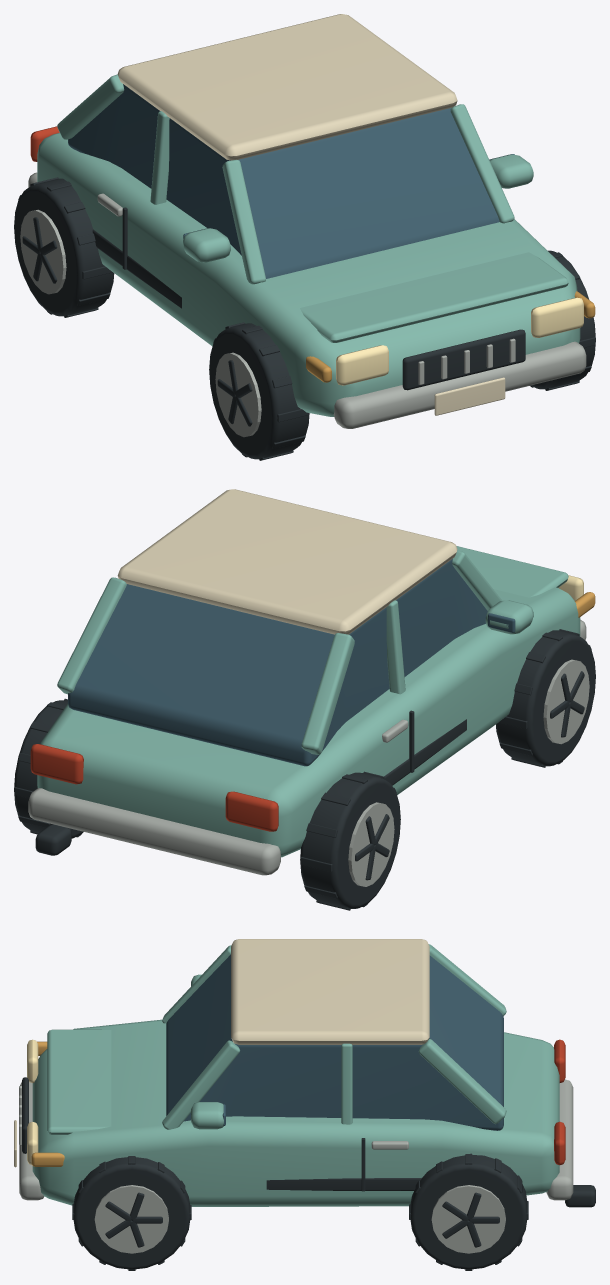
File: ResidentCar.glb
3 views of the same model, one above another, from view 1: azimuth 30°, elevation 25°; view 2: azimuth 150°, elevation 25°; view 3: azimuth 270°, elevation 25° (orthographic). The views are drawn at different scales.
Visible parts, largest first — view 1: Lower body, Cabin glass, Ivory roof, Hood panel, Bumper, Tire.001, Tire, Front grille, Windshield pillar, Wheel rim, Wheel rim.001, Windshield pillar.001 (+9 smaller); view 2: Cabin glass, Lower body, Ivory roof, Bumper.001, Tire.001, Tire, Hood panel, Rear pillar, Rear pillar.001, Wheel rim.001, Wheel rim, Tire.003 (+7 smaller); view 3: Lower body, Cabin glass, Ivory roof, Tire.003, Hood panel, Tire.002, Wheel rim.002, Wheel rim.003, Rear pillar.001, Door sill.001, Windshield pillar.001, Bumper.001 (+10 smaller).
Boxes of the visible parts, x1,y1,x2,y2 form: Lower body: (37,133,580,416); Cabin glass: (68,84,499,278); Ivory roof: (117,14,457,160); Hood panel: (300,252,568,342); Bumper: (333,341,586,428); Tire.001: (14,178,114,316); Tire: (209,323,309,459); Front grille: (402,329,525,390); Windshield pillar: (222,159,265,284); Wheel rim: (215,352,261,437); Wheel rim.001: (20,209,66,294); Windshield pillar.001: (450,104,514,223); Cabin glass: (68,558,487,766); Lower body: (37,587,580,857); Ivory roof: (117,489,457,634); Bumper.001: (28,788,280,875); Tire.001: (300,772,400,908); Tire: (496,630,595,766); Hood panel: (456,546,568,597); Rear pillar: (301,633,354,754); Rear pillar.001: (57,577,126,694); Wheel rim.001: (348,802,394,886); Wheel rim: (543,659,589,744); Tire.003: (14,700,83,838); Lower body: (32,1019,559,1206); Cabin glass: (166,954,503,1130); Ivory roof: (231,939,429,1044); Tire.003: (410,1155,527,1269); Hood panel: (47,1029,111,1134); Tire.002: (73,1157,190,1269); Wheel rim.002: (94,1185,168,1253); Wheel rim.003: (431,1185,505,1253); Rear pillar.001: (418,1039,506,1124); Door sill.001: (266,1178,421,1190); Windshield pillar.001: (162,1040,240,1129); Bumper.001: (546,1079,573,1200).
Bounding box in the file's own units: 1.63 × 1.17 × 2.82.
